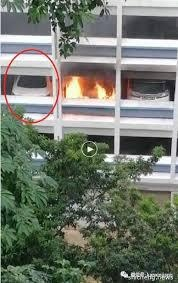fire: (64, 75, 84, 97), (94, 81, 114, 100)
